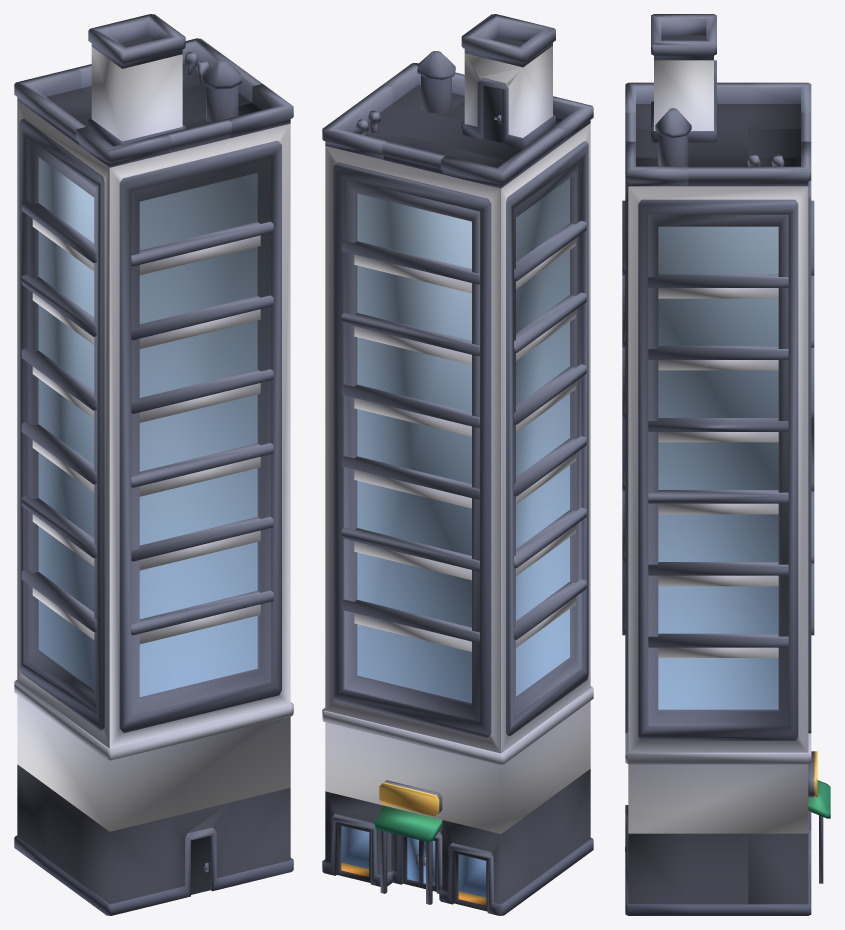
Rendered from building-skyscraper-c_lev1.glb.
3 renders of one model, left to right at view 1: azimuth 30°, elevation 25°; view 2: azimuth 150°, elevation 25°; view 3: azimuth 270°, elevation 25°, orthographic. The views are drawn at different scales.
Parts seen in each view (by area): view 1: building-skyscraper-c_lev1; view 2: building-skyscraper-c_lev1; view 3: building-skyscraper-c_lev1.
Part boxes in pixels (x1,y1,x2,y2): building-skyscraper-c_lev1: (14,14,293,915); building-skyscraper-c_lev1: (322,14,593,915); building-skyscraper-c_lev1: (622,14,830,915).
Bounding box in the file's own units: 2.43 × 10.2 × 2.33.
Materials: 1 (1 with a texture image).
